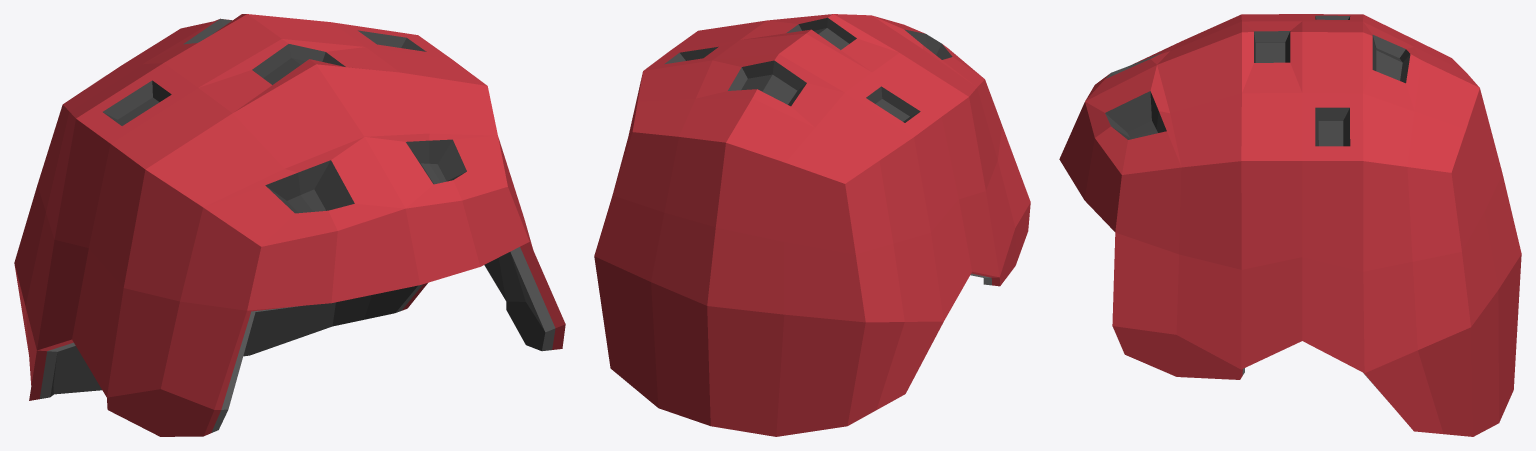
File: Helmet.fbx
3 renders of one model, left to right at view 1: azimuth 30°, elevation 25°; view 2: azimuth 150°, elevation 25°; view 3: azimuth 270°, elevation 25°, orthographic. The views are drawn at different scales.
Parts seen in each view (by area): view 1: Helmet; view 2: Helmet; view 3: Helmet.
Part boxes in pixels (x1,y1,x2,y2): Helmet: (14,14,565,436); Helmet: (594,14,1030,436); Helmet: (1059,14,1521,436).
Bounding box in the file's own units: 228 × 212 × 247.
